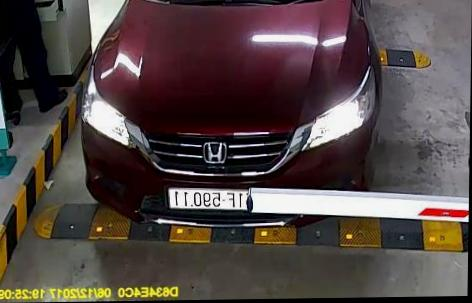License_Plate: (167, 182, 255, 213)
